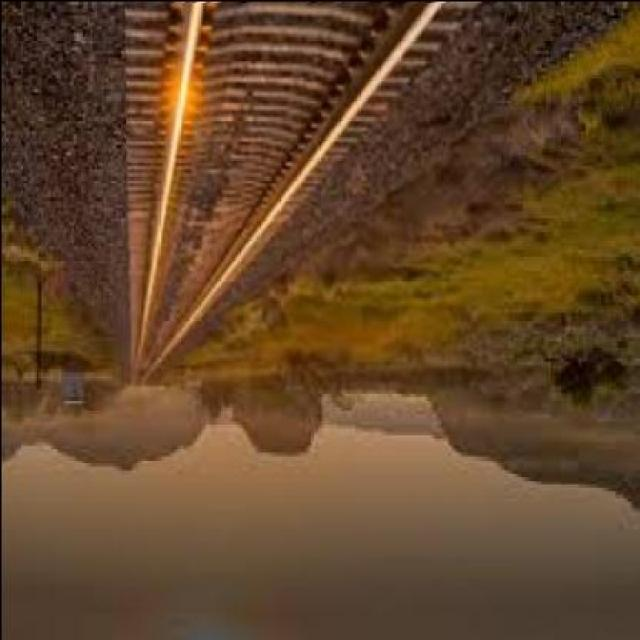rail: (127, 3, 496, 393)
